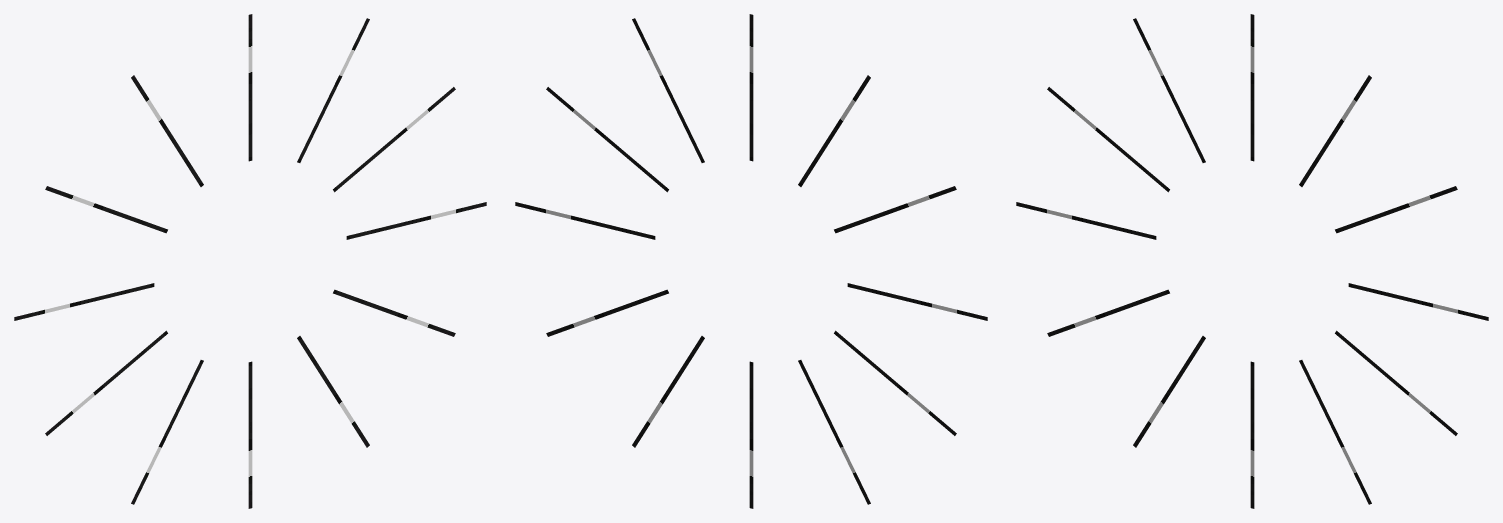
Rendered from PowerupRadialGeo.fbx.
3 views of the same model, side by side, from view 1: azimuth 30°, elevation 25°; view 2: azimuth 150°, elevation 25°; view 3: azimuth 330°, elevation 25° (orthographic).
Visible parts, largest first — view 1: PowerupRadialGeo; view 2: PowerupRadialGeo; view 3: PowerupRadialGeo.
Part boxes in pixels (x1,y1,x2,y2): PowerupRadialGeo: (14,14,486,508); PowerupRadialGeo: (515,14,987,508); PowerupRadialGeo: (1016,14,1488,508).
Size of the model in its own units: 24.56 by 24.56 by 0.
